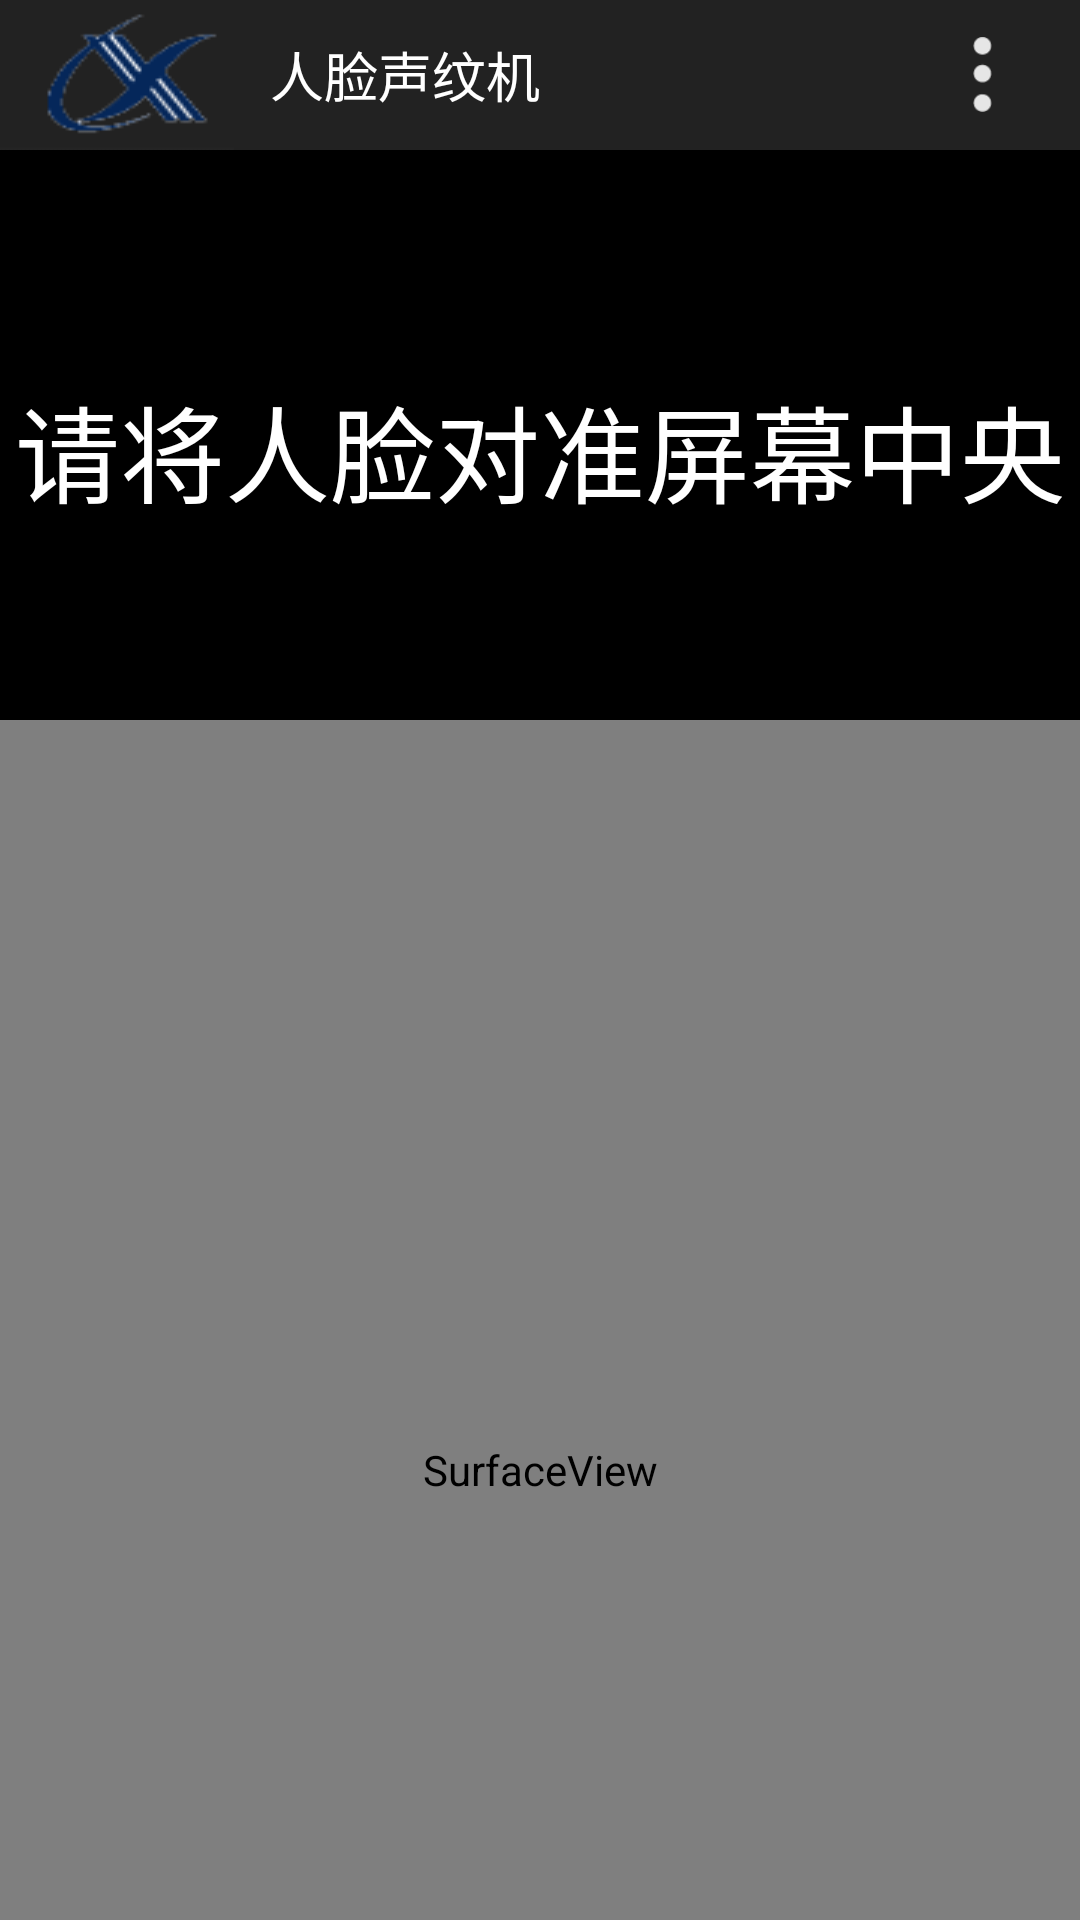

Icon bounding boxes for this 1080px x 1920px phone screenshot, format box(x1, y1, x2, y2):
more: box(973, 37, 992, 112)
